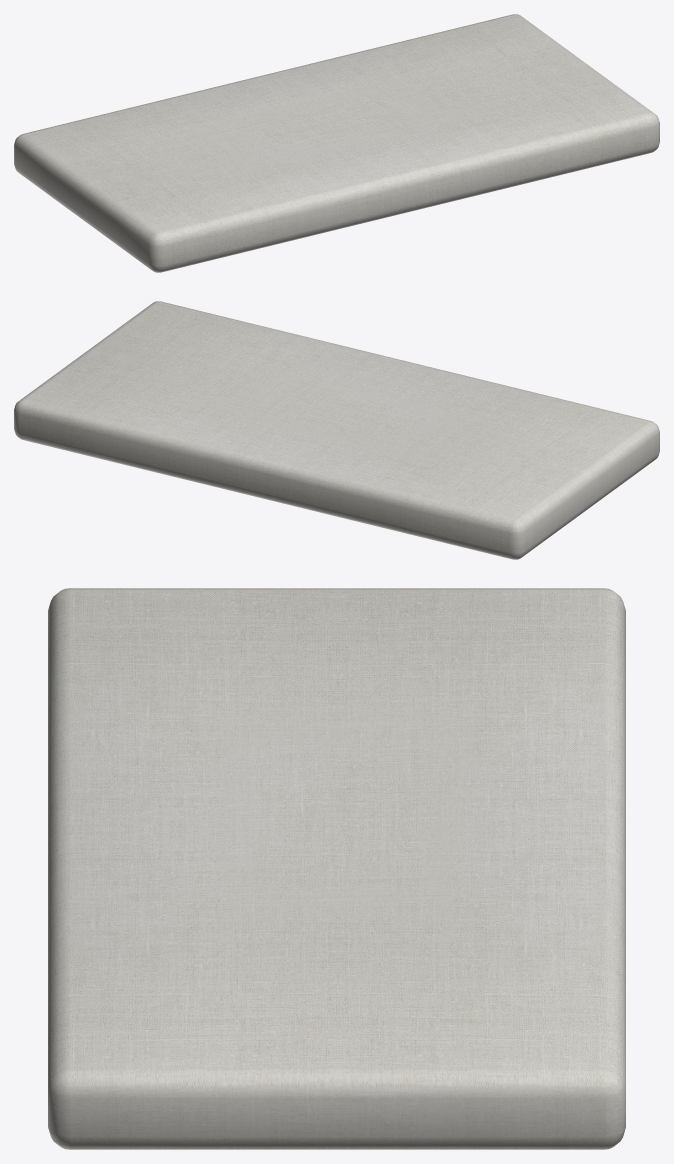
Rendered from Mattress.FBX.
3 renders of one model, top to bottom at view 1: azimuth 30°, elevation 25°; view 2: azimuth 150°, elevation 25°; view 3: azimuth 270°, elevation 25°, orthographic. The views are drawn at different scales.
Parts seen in each view (by area): view 1: mattress; view 2: mattress; view 3: mattress.
Boxes of the visible parts, bbox=[...] form: mattress: bbox=[14, 14, 659, 272]; mattress: bbox=[14, 301, 659, 559]; mattress: bbox=[48, 588, 625, 1149].
Bounding box in the file's own units: 184 × 13.66 × 90.37.
1 material, 1 textured.
